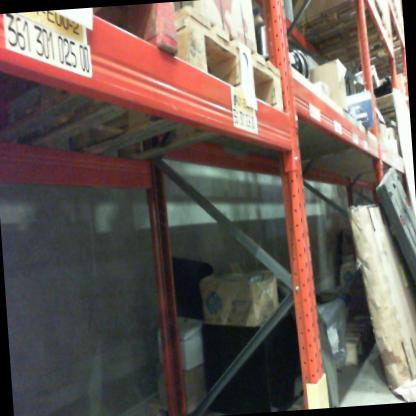pallet: (7, 10, 302, 190), (0, 5, 193, 161), (278, 0, 400, 82), (371, 158, 416, 324), (137, 376, 311, 416), (306, 323, 376, 374), (341, 87, 406, 127)
